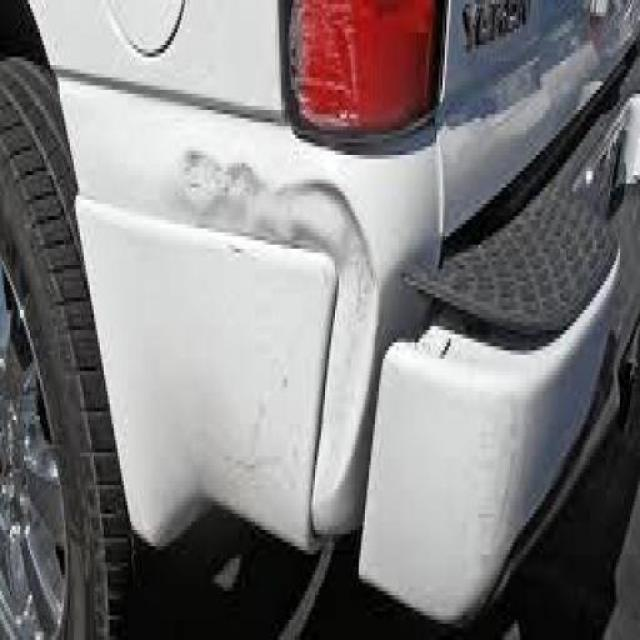dent: (174, 136, 379, 517)
